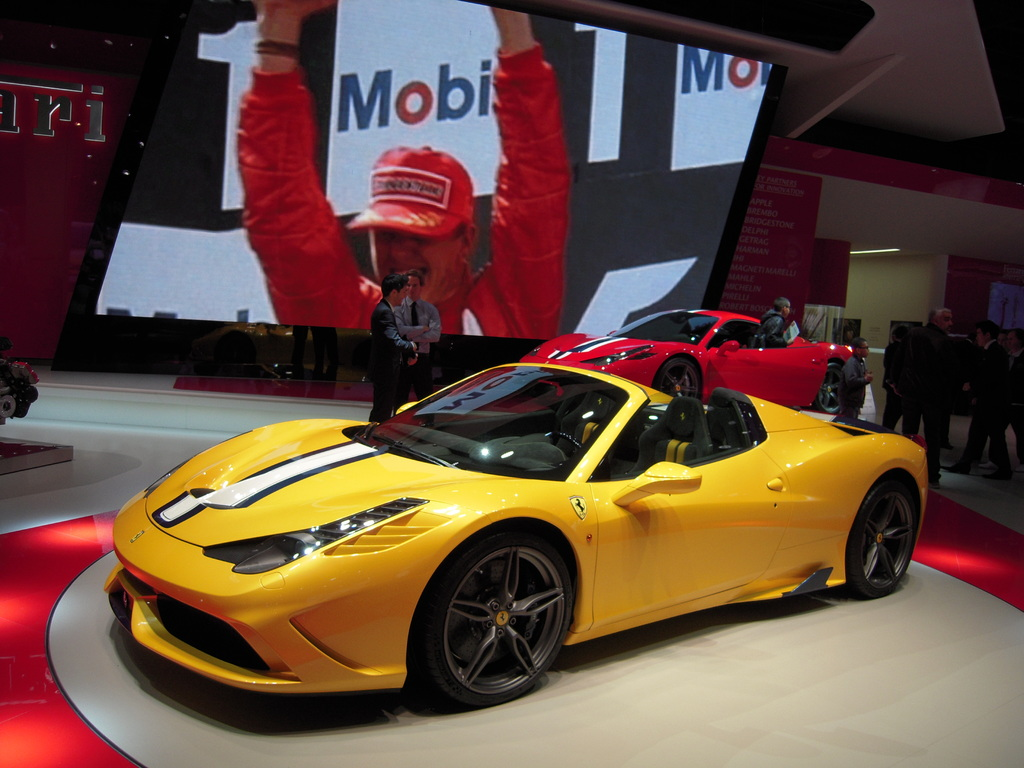person: (892, 304, 964, 486)
